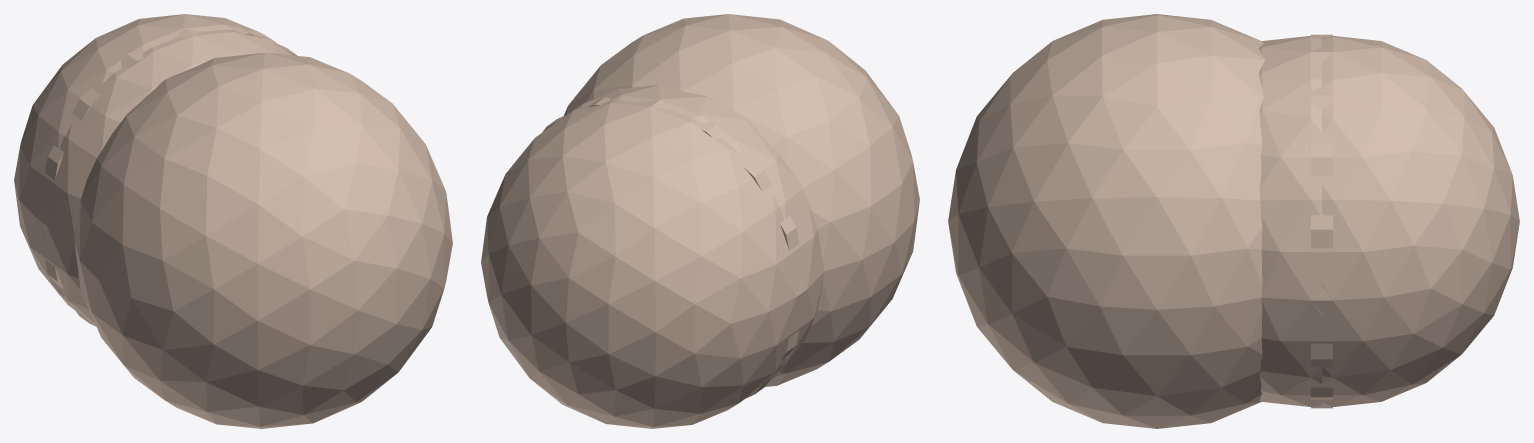
The model's file is phoboman_right_upper_arm.glb.
The picture shows the model from 3 angles, left to right: view 1: azimuth 30°, elevation 25°; view 2: azimuth 150°, elevation 25°; view 3: azimuth 270°, elevation 25°; orthographic projection. The views are drawn at different scales.
Parts seen in each view (by area): view 1: geometry_0; view 2: geometry_0; view 3: geometry_0.
Part boxes in pixels (x1,y1,x2,y2): geometry_0: (14,14,452,428); geometry_0: (481,14,919,428); geometry_0: (948,14,1519,428).
Bounding box in the file's own units: 0.19 × 0.19 × 0.26.
